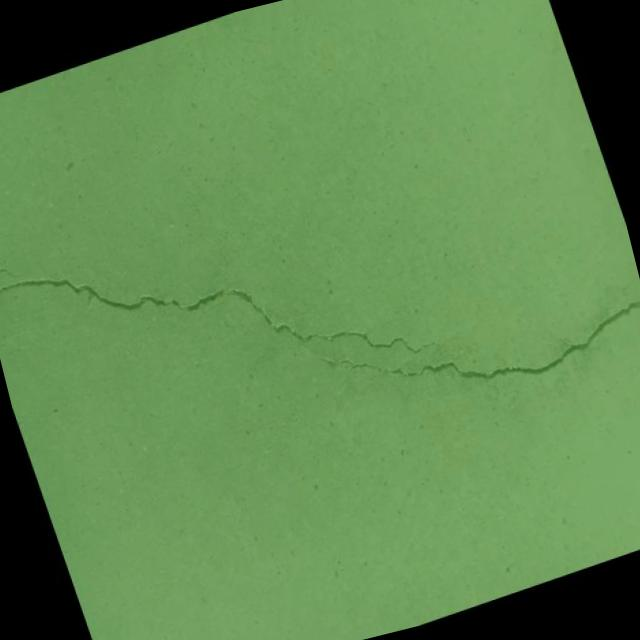crack: (0, 79, 640, 549), (0, 248, 27, 291), (638, 289, 640, 296)
